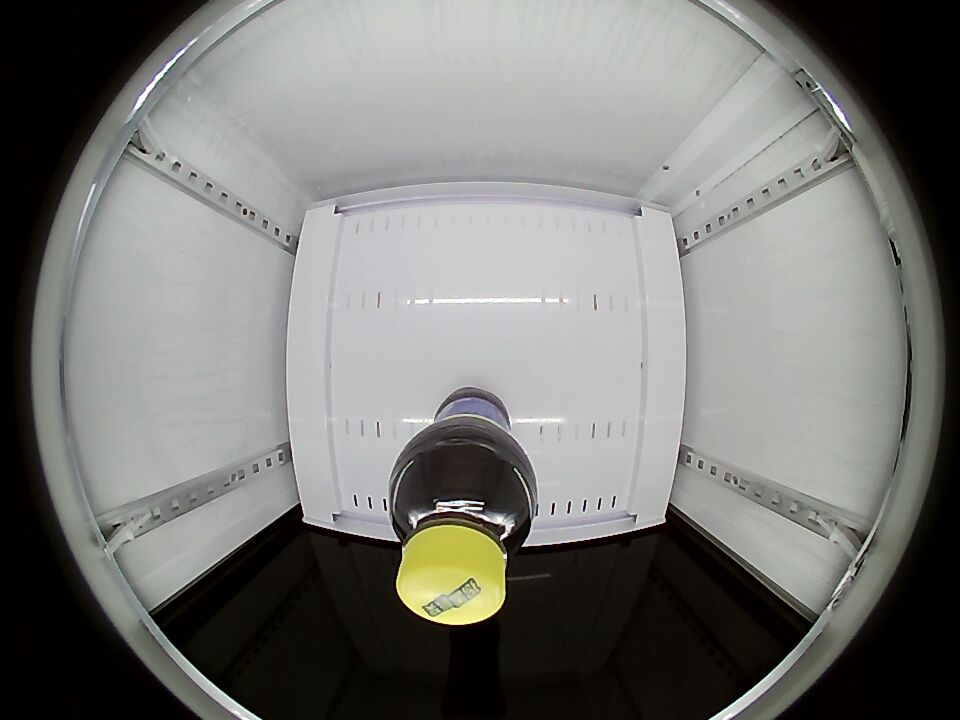baishikele: (390, 456, 534, 625)
